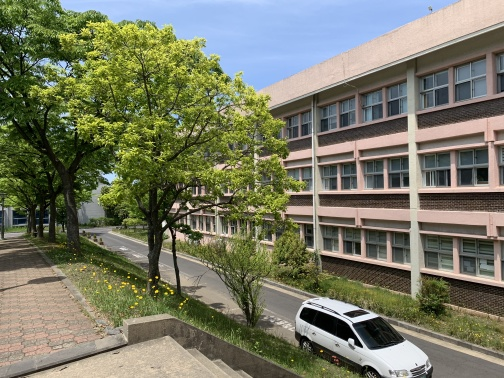College Of Education: (163, 31, 504, 310)
